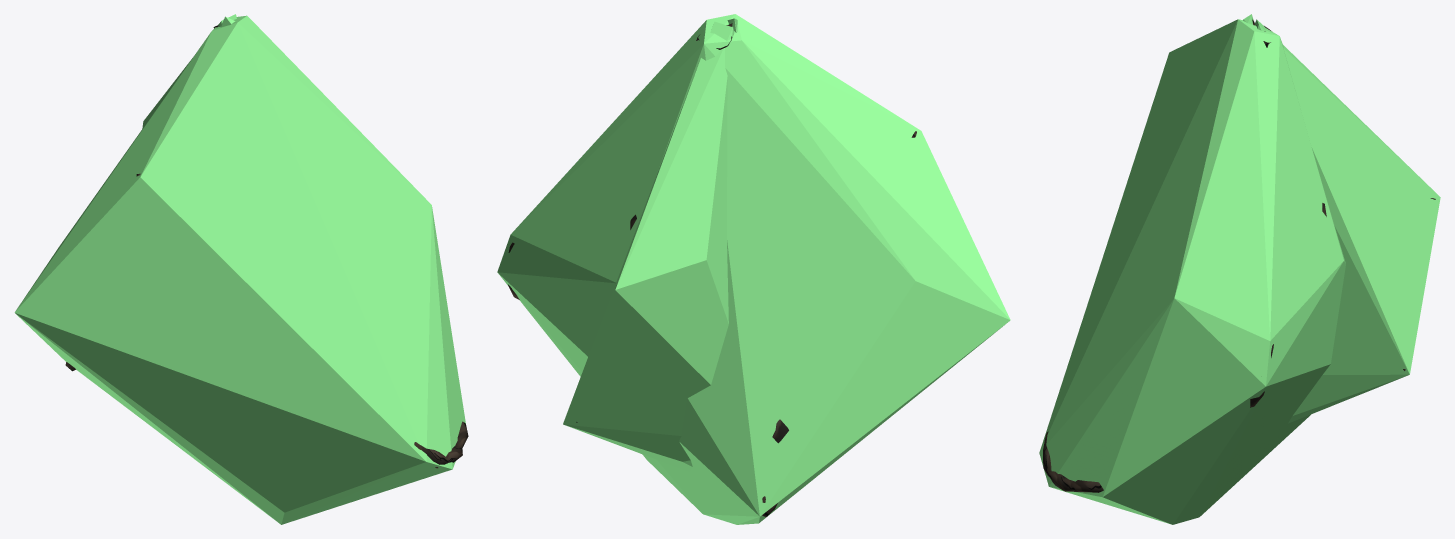
The model's file is Roots_01.fbx.
The picture shows the model from 3 angles, left to right: view 1: azimuth 30°, elevation 25°; view 2: azimuth 150°, elevation 25°; view 3: azimuth 270°, elevation 25°; orthographic projection. The views are drawn at different scales.
Parts seen in each view (by area): view 1: Root_A_COL, Root_A; view 2: Root_A_COL, Root_B_COL; view 3: Root_A_COL, Root_B_COL, Root_A.
Part boxes in pixels (bbox=[...]): Root_A_COL: bbox=[14, 15, 465, 524]; Root_A: bbox=[65, 173, 468, 468]; Root_A_COL: bbox=[497, 14, 1010, 524]; Root_B_COL: bbox=[563, 21, 734, 471]; Root_A_COL: bbox=[1039, 19, 1345, 524]; Root_B_COL: bbox=[1255, 19, 1440, 423]; Root_A: bbox=[1043, 41, 1326, 492].
Size of the model in its own units: 2.98 by 3.19 by 2.38.
